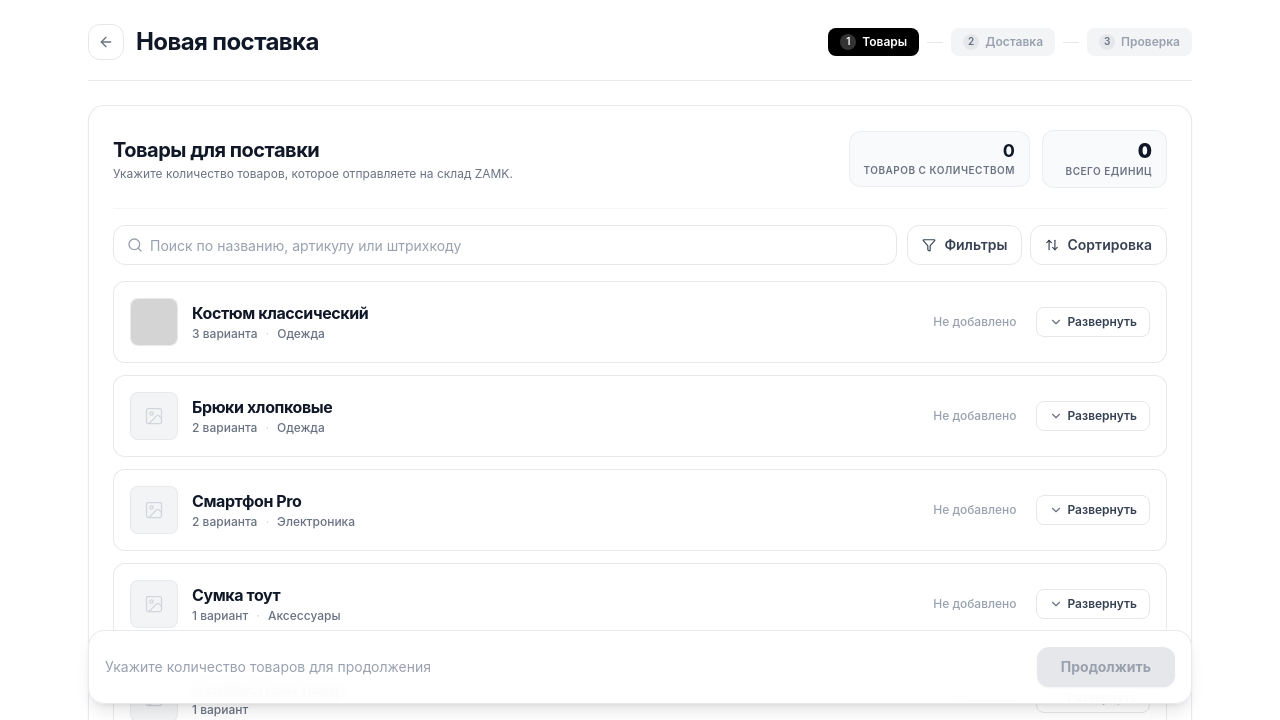
Test: SellerSupplyNew Component (SUP.2B3.1 - Category Name & Filter Chips) › D: category filter actually filters products correctly by their canonical categoryId
Expected: the heading "Костюм классический" is shown, [192,302,368,324]
// Open filter popover
Click the button "Фильтры".
click(965, 245)  # box [907,225,1022,265]
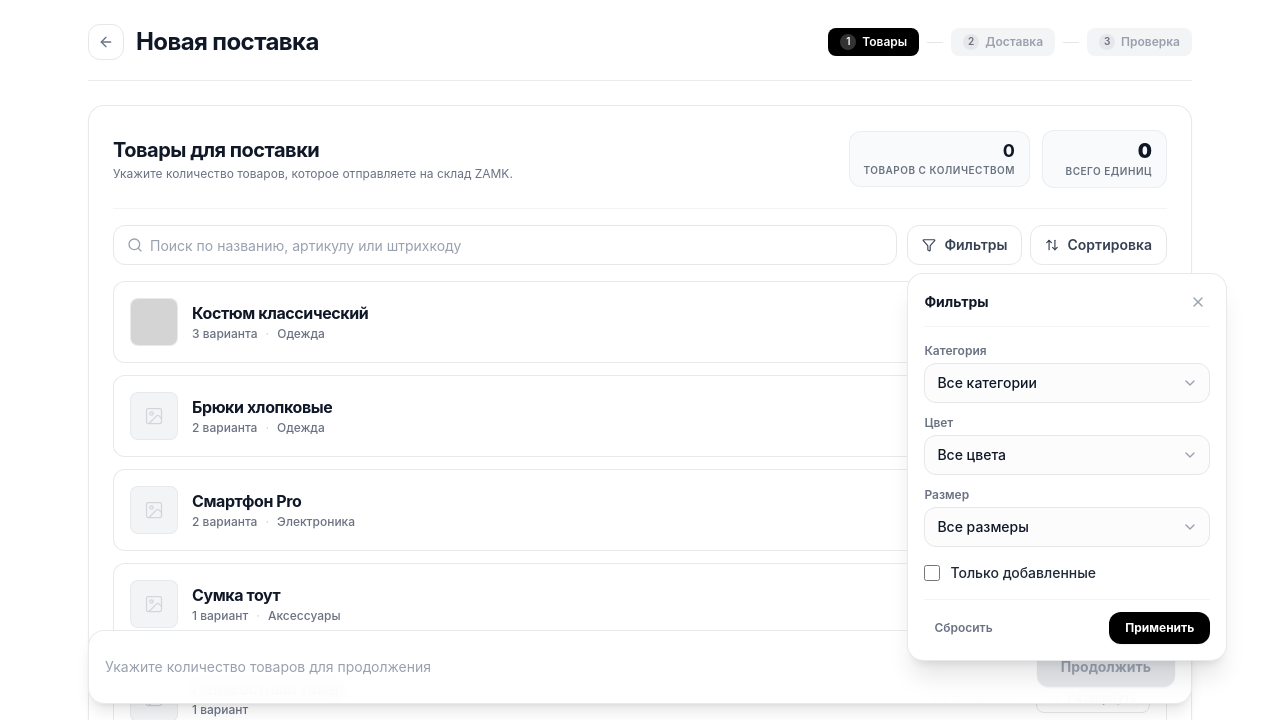
// Filter by Clothing canonical UUID
Select "Одежда" in the dropdown named "Категория" at (1067, 383), box [924,363,1210,403]
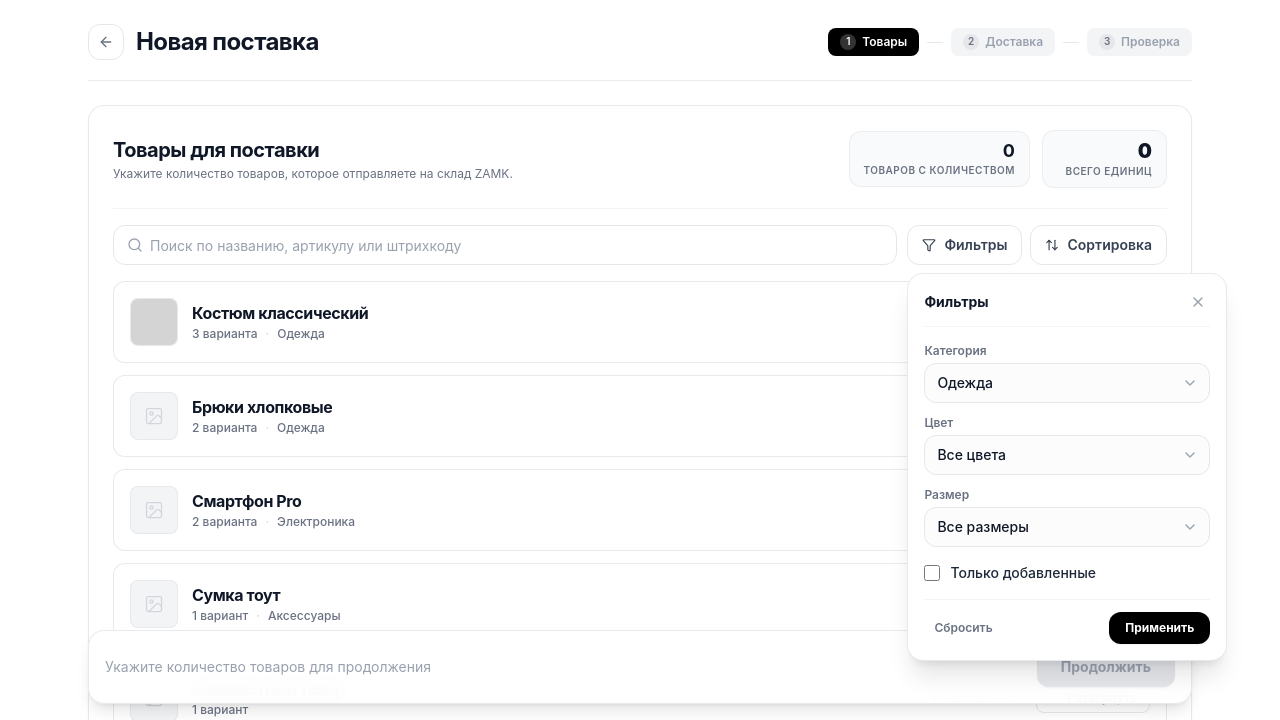
Click the button "Применить".
click(1160, 628)  # box [1109,612,1210,644]
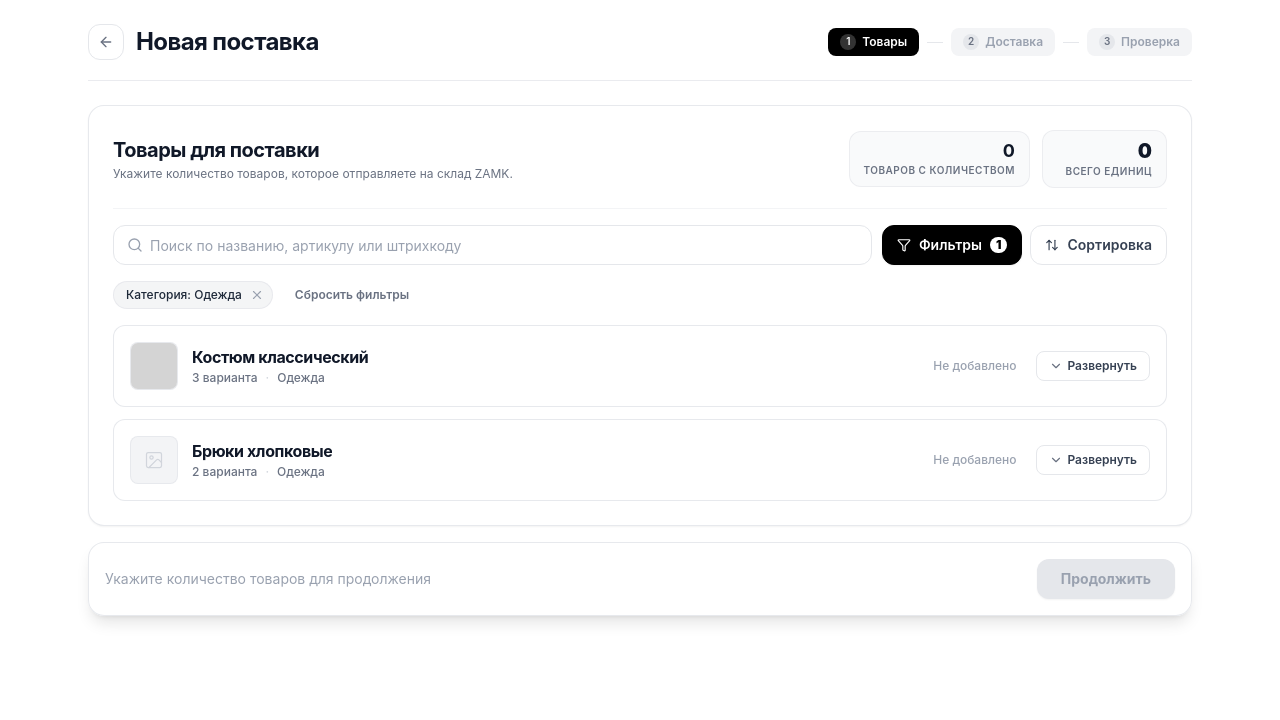
Expected: the heading "Костюм классический" is shown, [192,346,368,368]
Expected: the heading "Смартфон Pro" is gone
Expected: the heading "Сумка тоут" is gone
